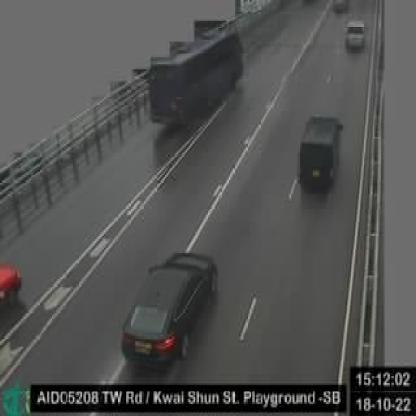Car: (119, 250, 222, 372), (298, 116, 344, 196), (344, 17, 368, 53), (331, 1, 352, 14)
Truck: (149, 30, 244, 124)
